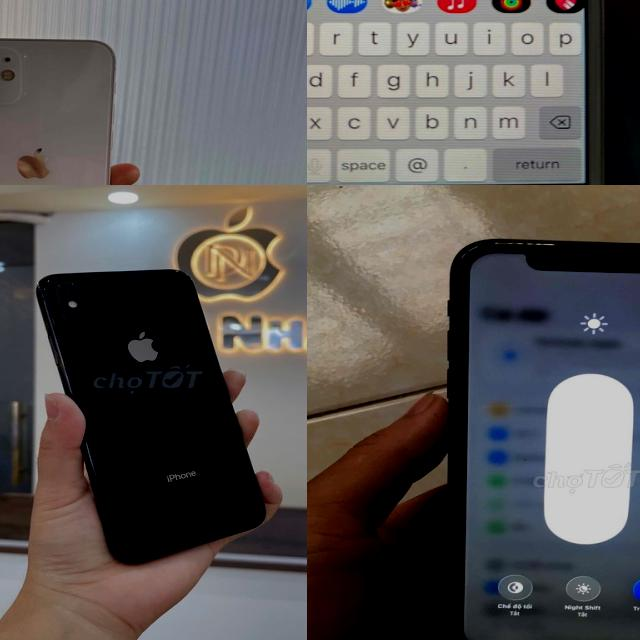gen_11: (447, 243, 640, 640)
gen_12_13: (0, 28, 119, 185)
gen_7_8: (307, 0, 606, 185)
gen_x_xs: (38, 270, 264, 562)
